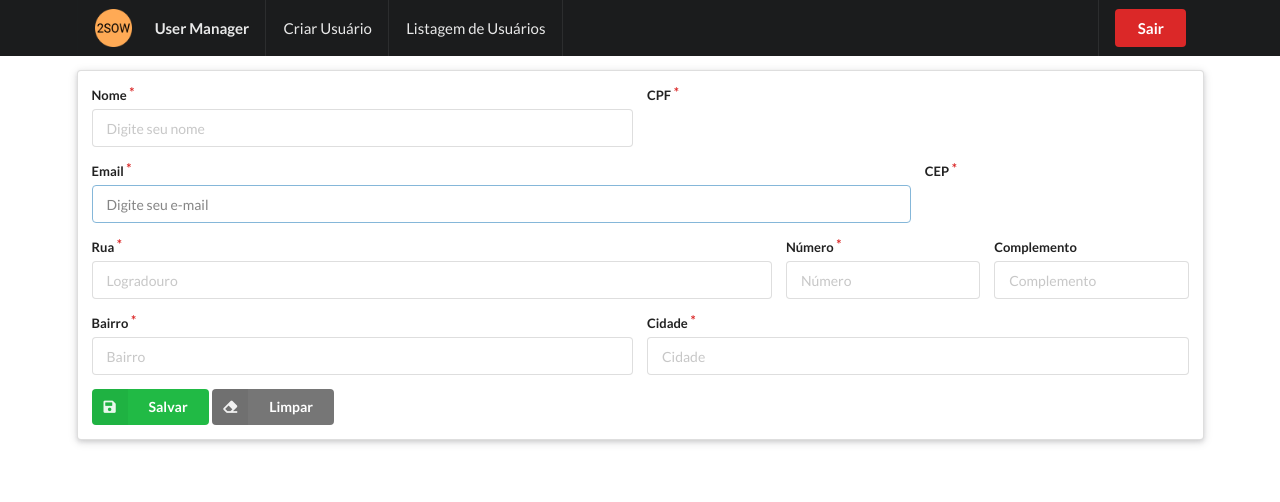
Verifica se existem os inputs para cadastro › Verifica se existe validação no e-mail
Type "wscataoSemArroba" into the field with placeholder "Digite seu e-mail" at (501, 204), box [92,185,911,223]
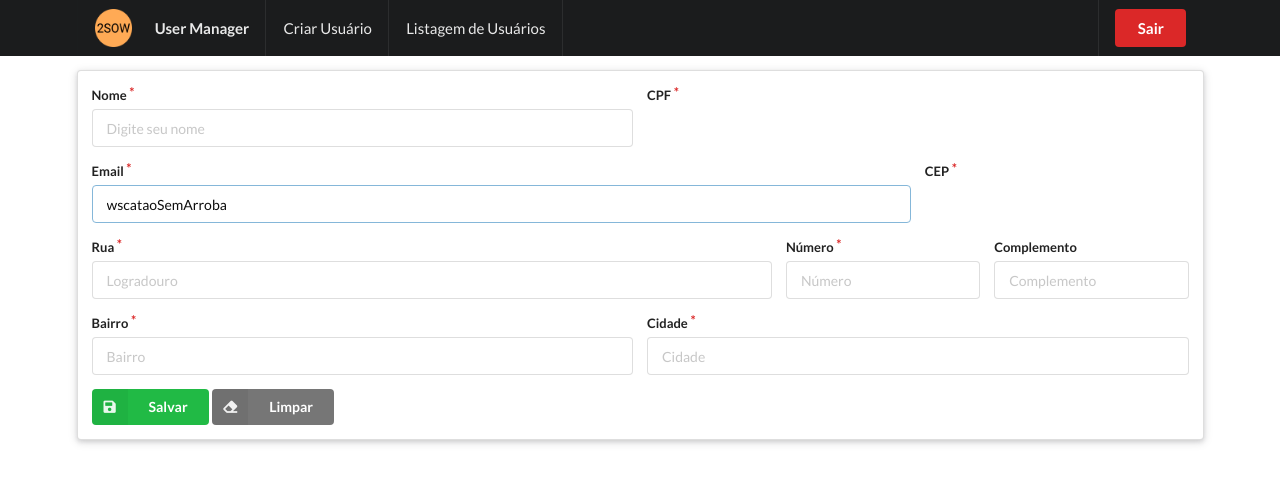
Press Tab
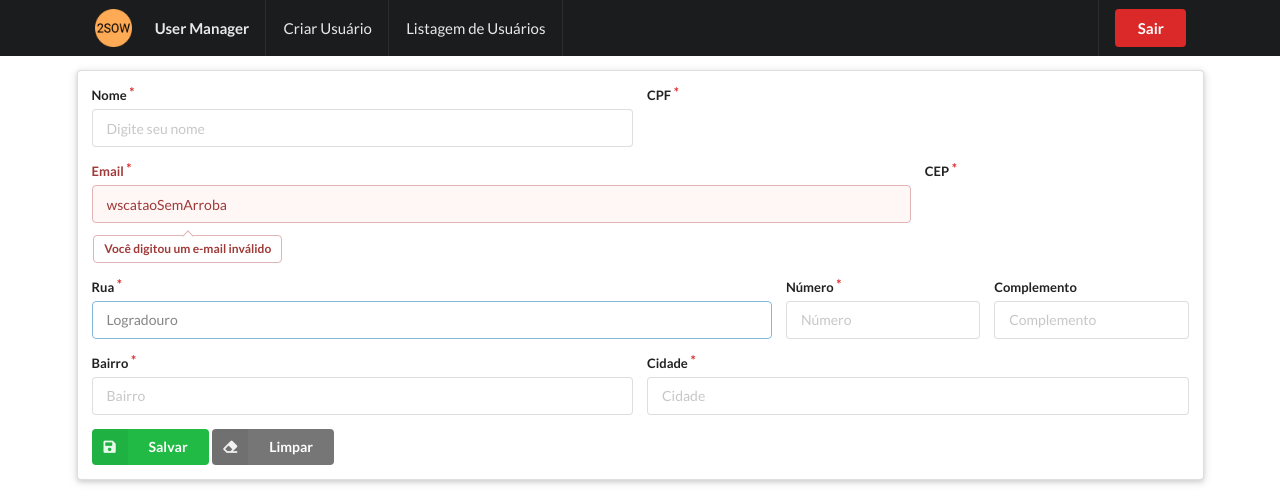
Check: the message "Você digitou um e-mail inválido" is shown, box [93,235,282,263]
